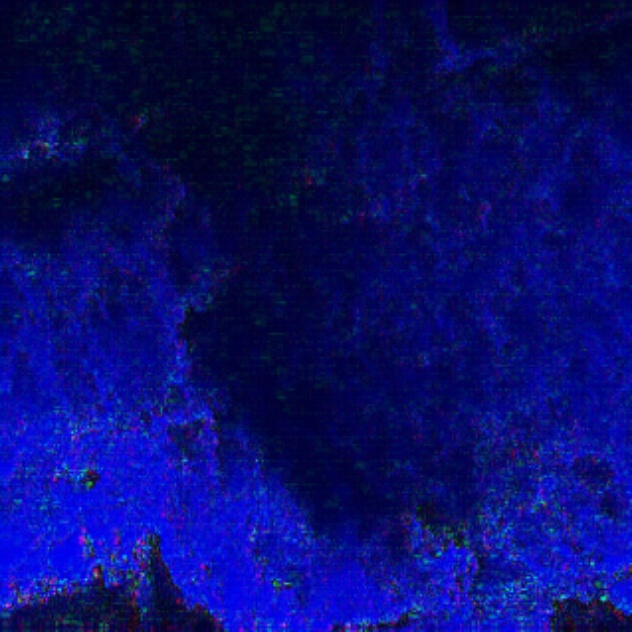rip_current: (141, 178, 429, 575)
